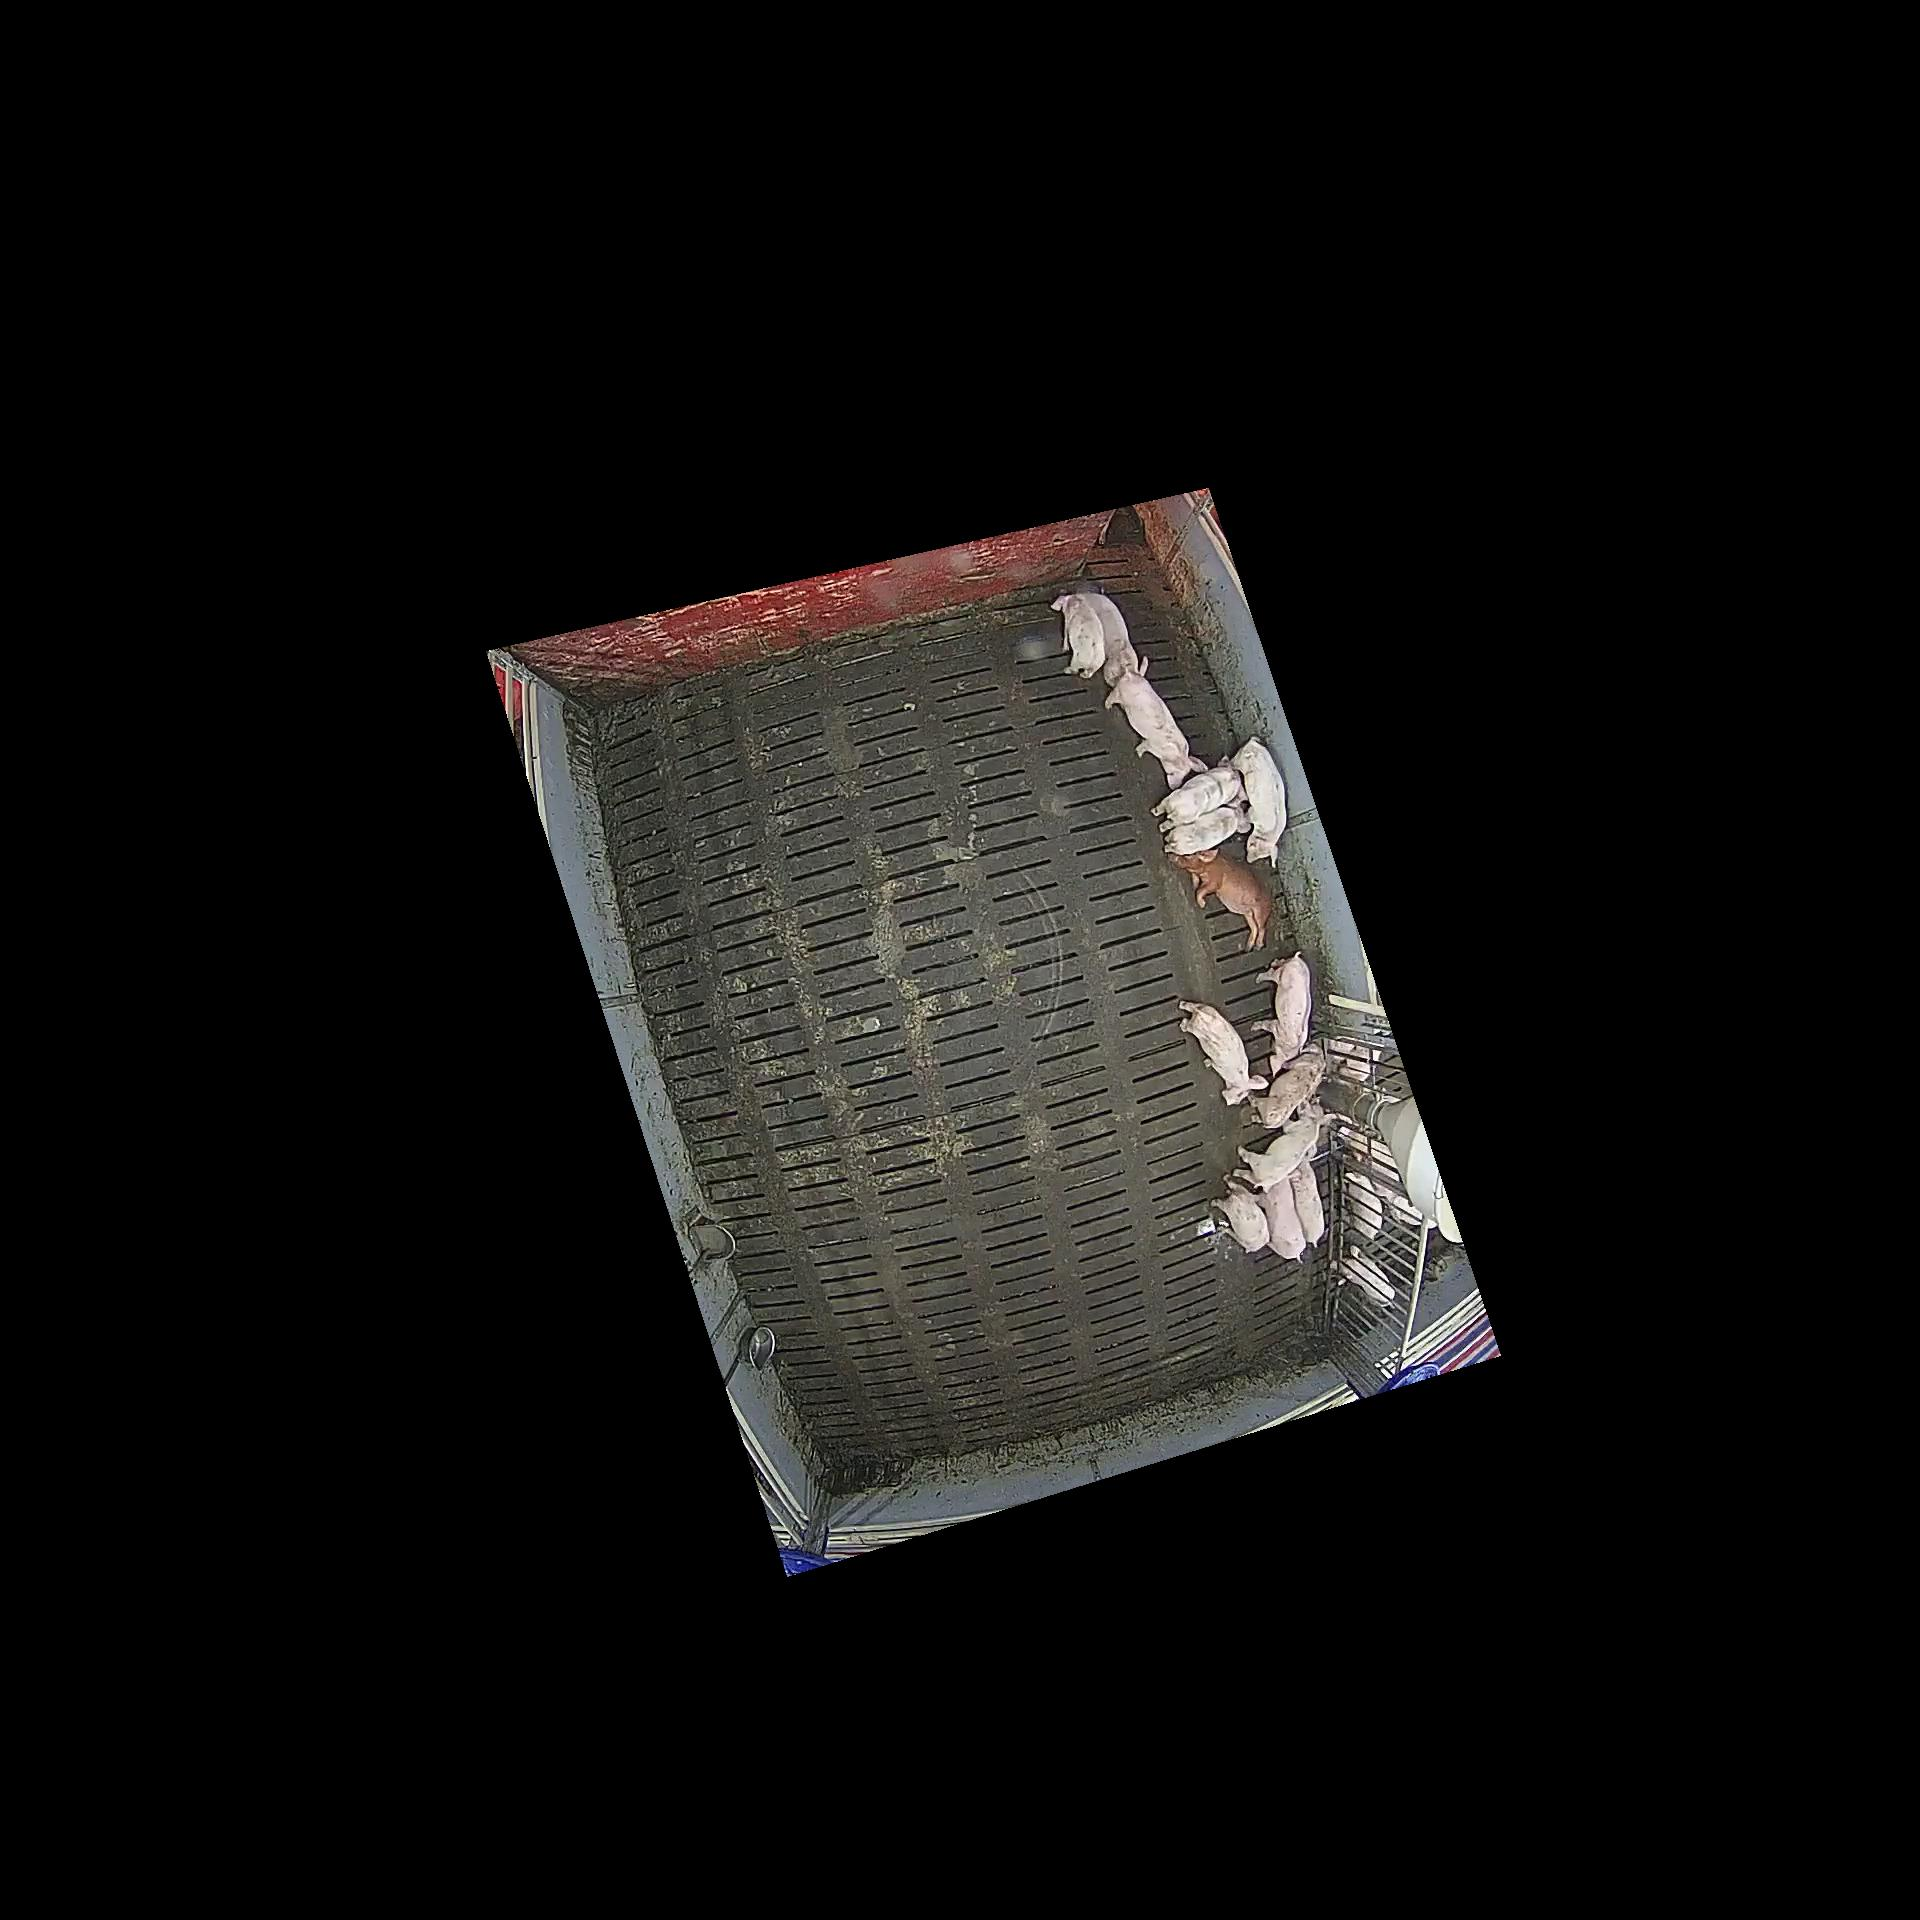pig: (1104, 666, 1208, 789), (1167, 849, 1271, 951), (1233, 1099, 1338, 1194), (1180, 1000, 1269, 1106), (1252, 951, 1312, 1080), (1152, 754, 1248, 833), (1231, 735, 1287, 869), (1078, 593, 1148, 687), (1247, 1043, 1324, 1129), (1210, 1175, 1269, 1254), (1051, 594, 1106, 679), (1257, 1169, 1306, 1262), (1164, 805, 1250, 855), (1292, 1143, 1324, 1248)
